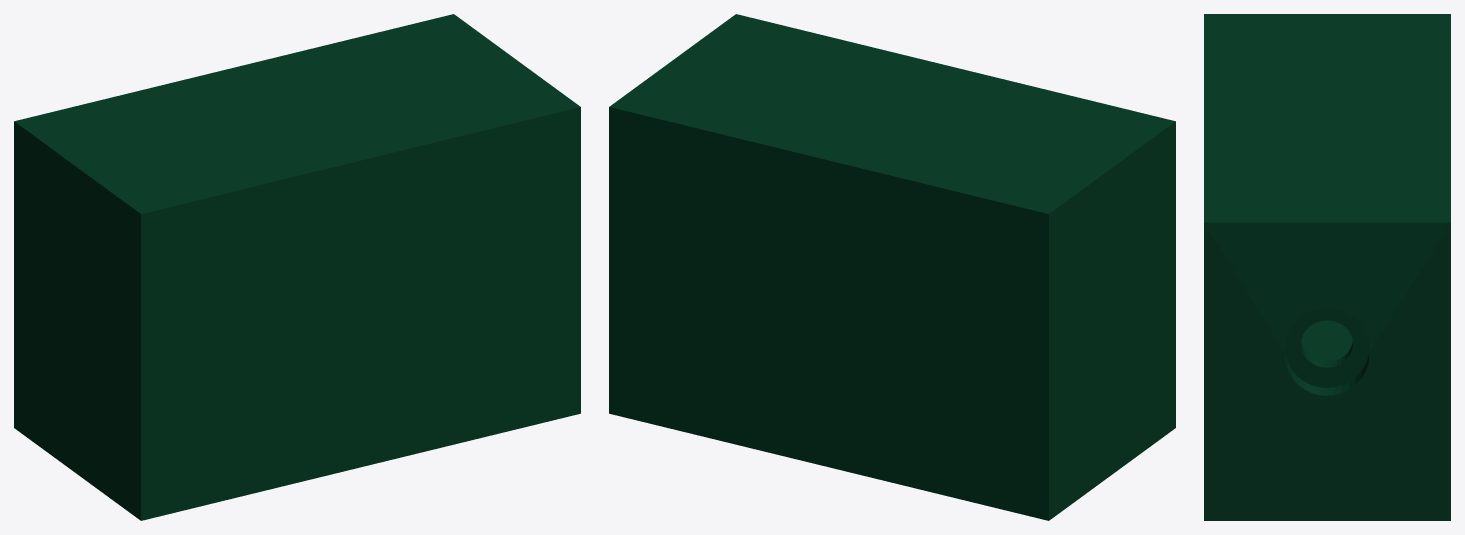
Rendered from mondoNovoPrimitive.obj.
3 views of the same model, side by side, from view 1: azimuth 30°, elevation 25°; view 2: azimuth 150°, elevation 25°; view 3: azimuth 270°, elevation 25° (orthographic). The views are drawn at different scales.
Parts seen in each view (by area): view 1: Cube.001; view 2: Cube.001; view 3: Cube.001.
Part boxes in pixels (x1,y1,x2,y2): Cube.001: (14,14,580,520); Cube.001: (609,14,1175,520); Cube.001: (1204,14,1450,520).
Size of the model in its own units: 6.44 by 4.23 by 3.17.
